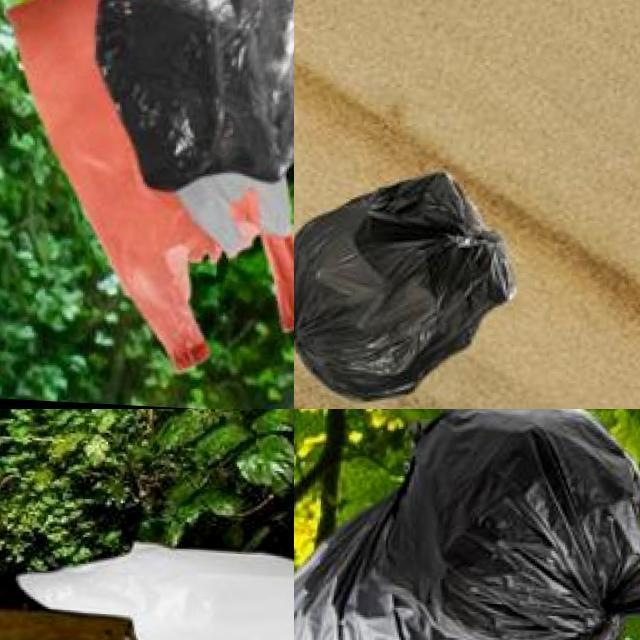waste: (5, 0, 294, 369), (294, 409, 640, 640), (294, 166, 518, 409), (91, 0, 294, 204), (0, 536, 294, 640)
